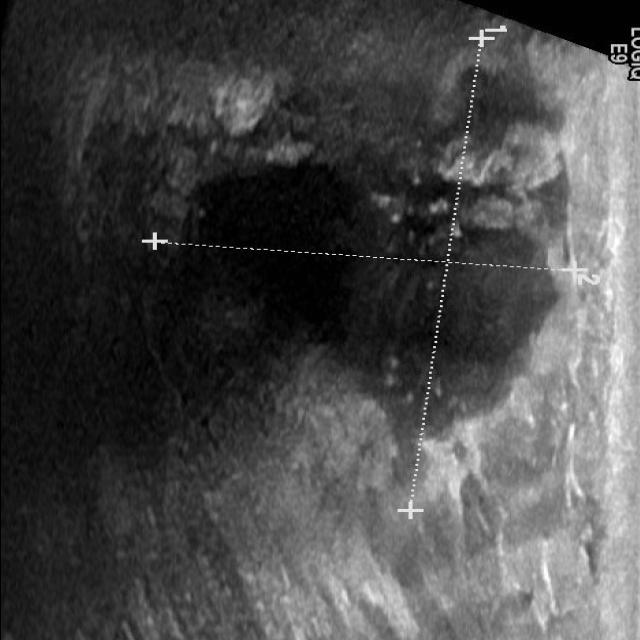Malignant: (210, 137, 574, 405)
